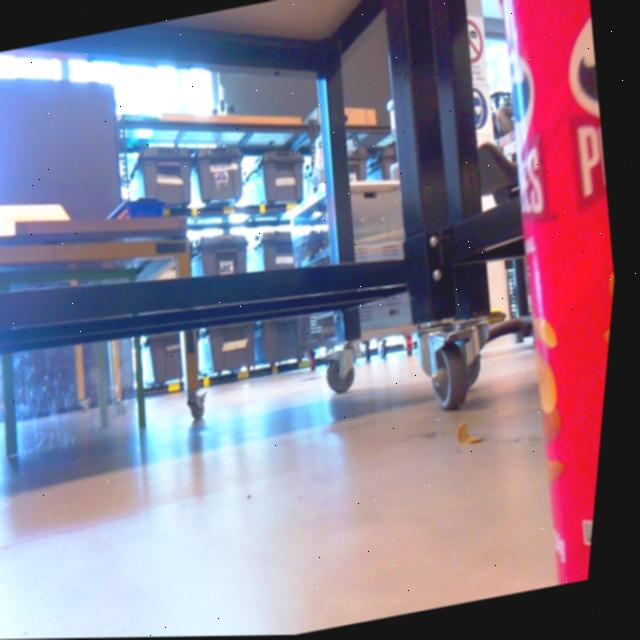redpringles: (439, 0, 640, 591)
